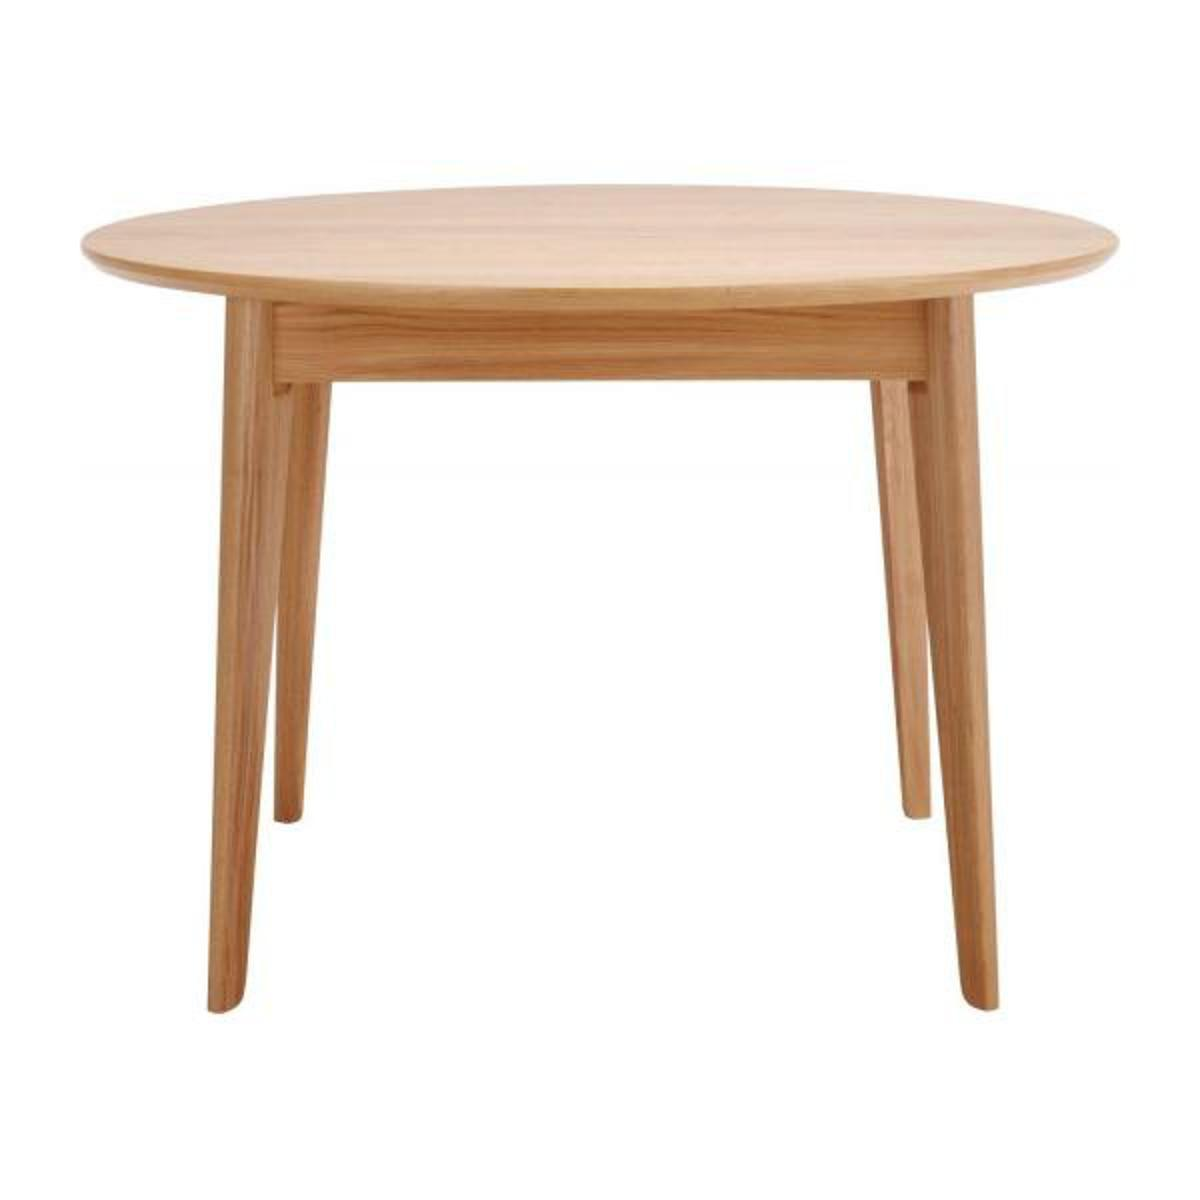Table: (73, 142, 1145, 1026)
